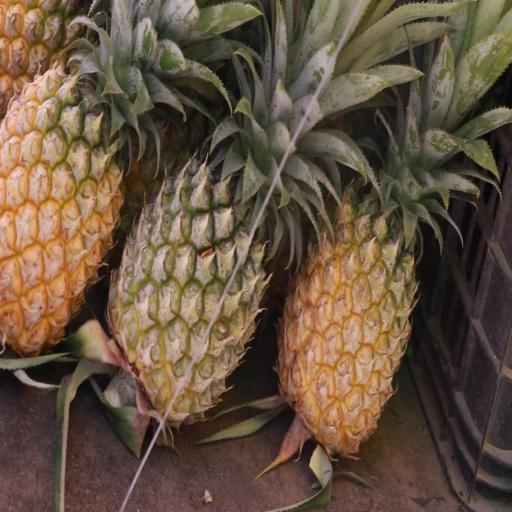Pineapple - v8 v1: (276, 94, 422, 469), (0, 15, 126, 369)
